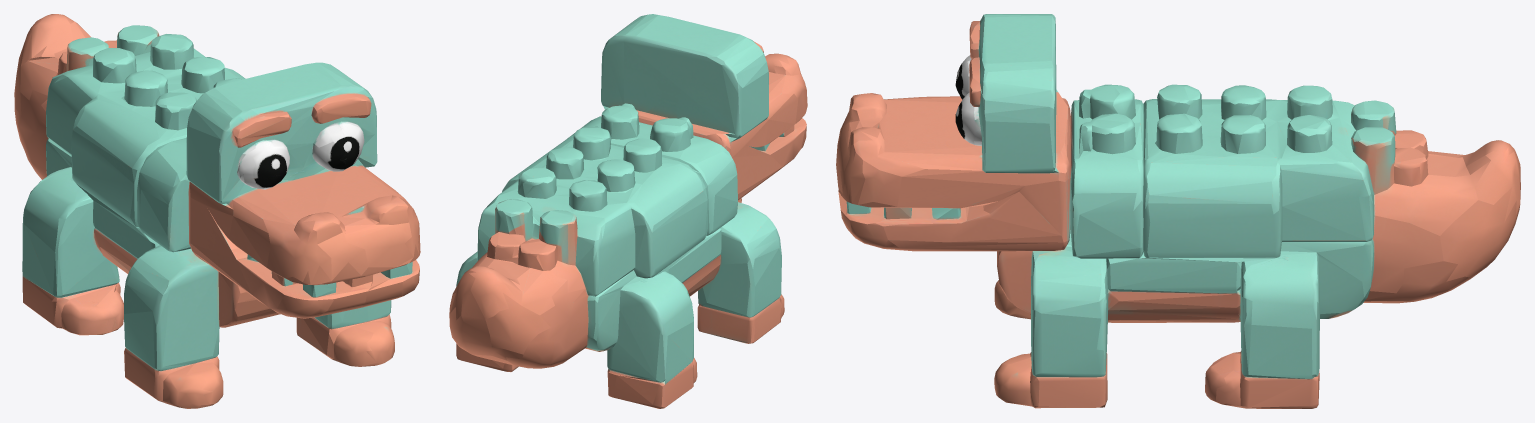
3 renders of one model, left to right at view 1: azimuth 30°, elevation 25°; view 2: azimuth 150°, elevation 25°; view 3: azimuth 270°, elevation 25°, orthographic. The views are drawn at different scales.
Size of the model in its own units: 0.802 by 0.9471 by 1.9.
Materials: 1 (1 with a texture image).
